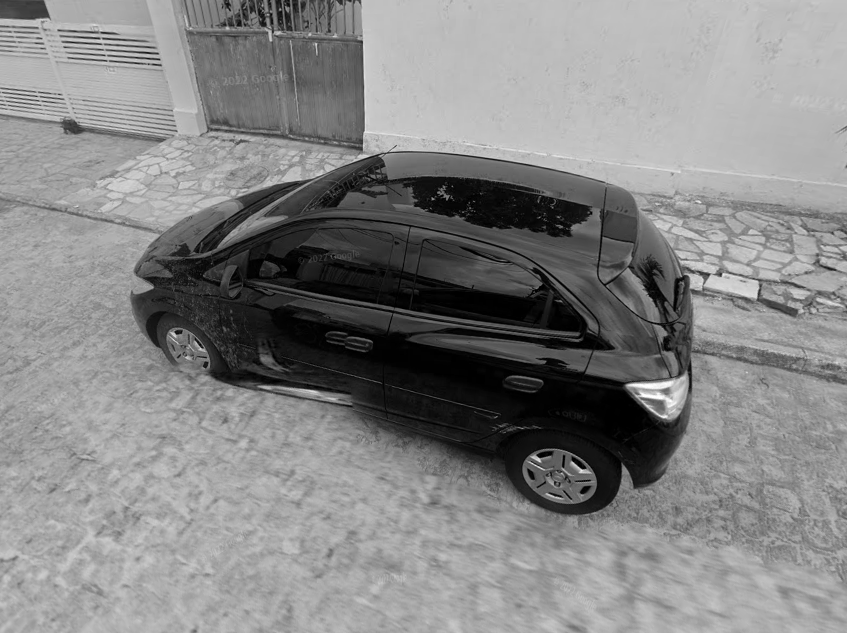car: (123, 141, 700, 519)
